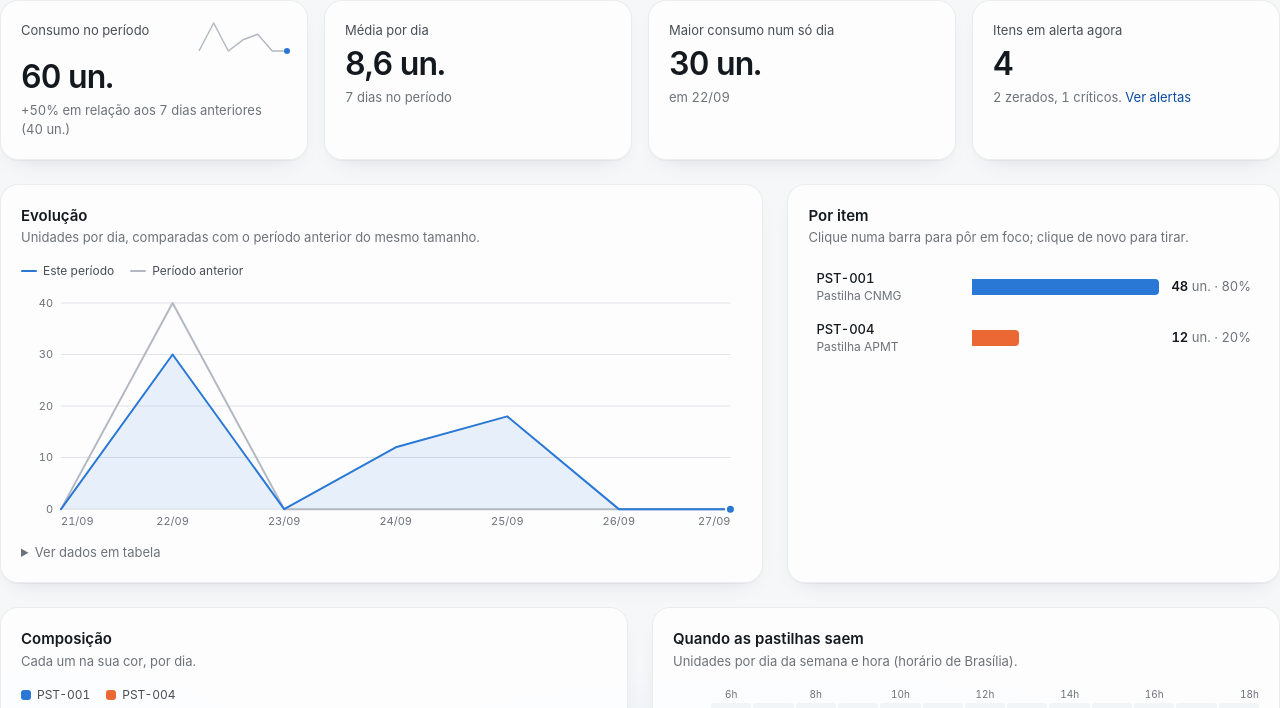
Test: RF-17a · Painel de análise › "Tirar o foco" volta ao total de todos os itens
Click the button "PST-004 Pastilha APMT 12 un. · 20%". click: (845, 329)
box: [808,314,1259,361]
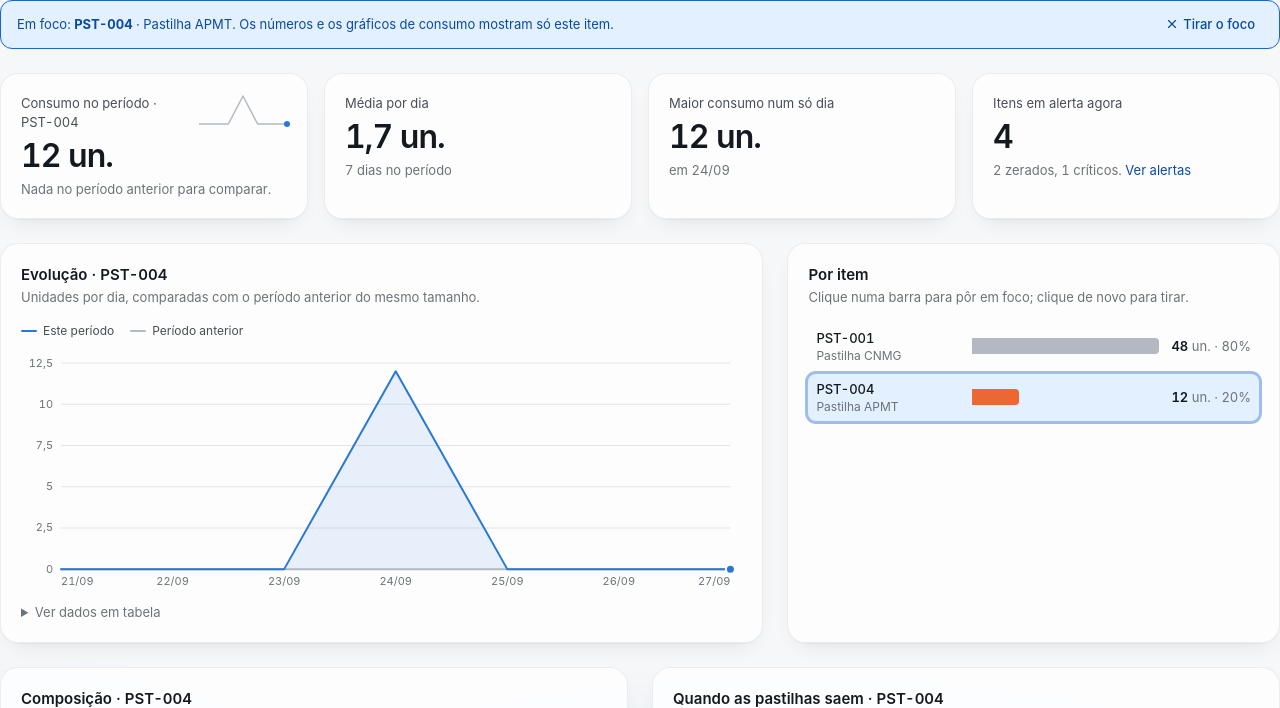
Click the button "Tirar o foco". click: (1210, 24)
box: [1157,11,1263,38]
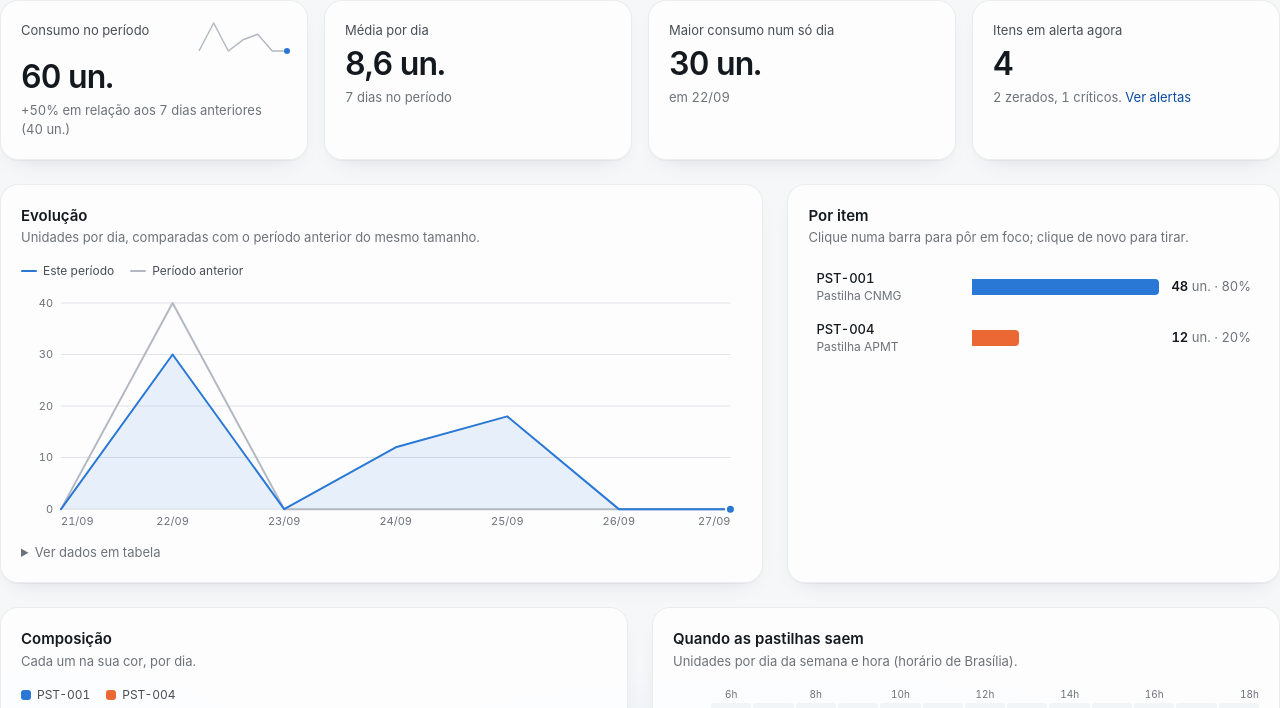
Now the message is gone
Now the text "60 un." is shown, box [21,57,113,96]
